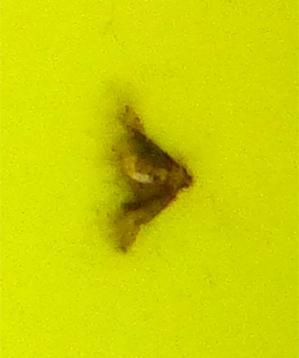Lepidoptera: (100, 100, 199, 258)
